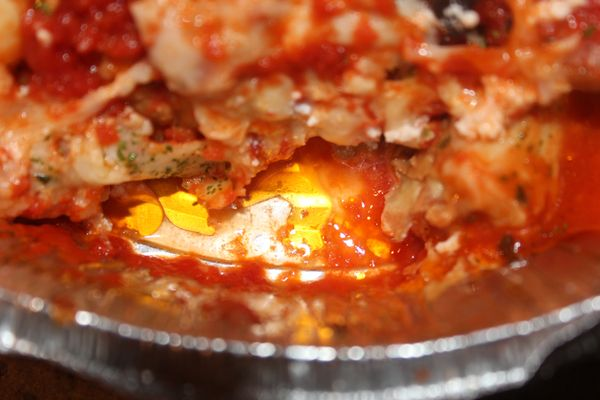sandwich: (0, 0, 599, 349)
